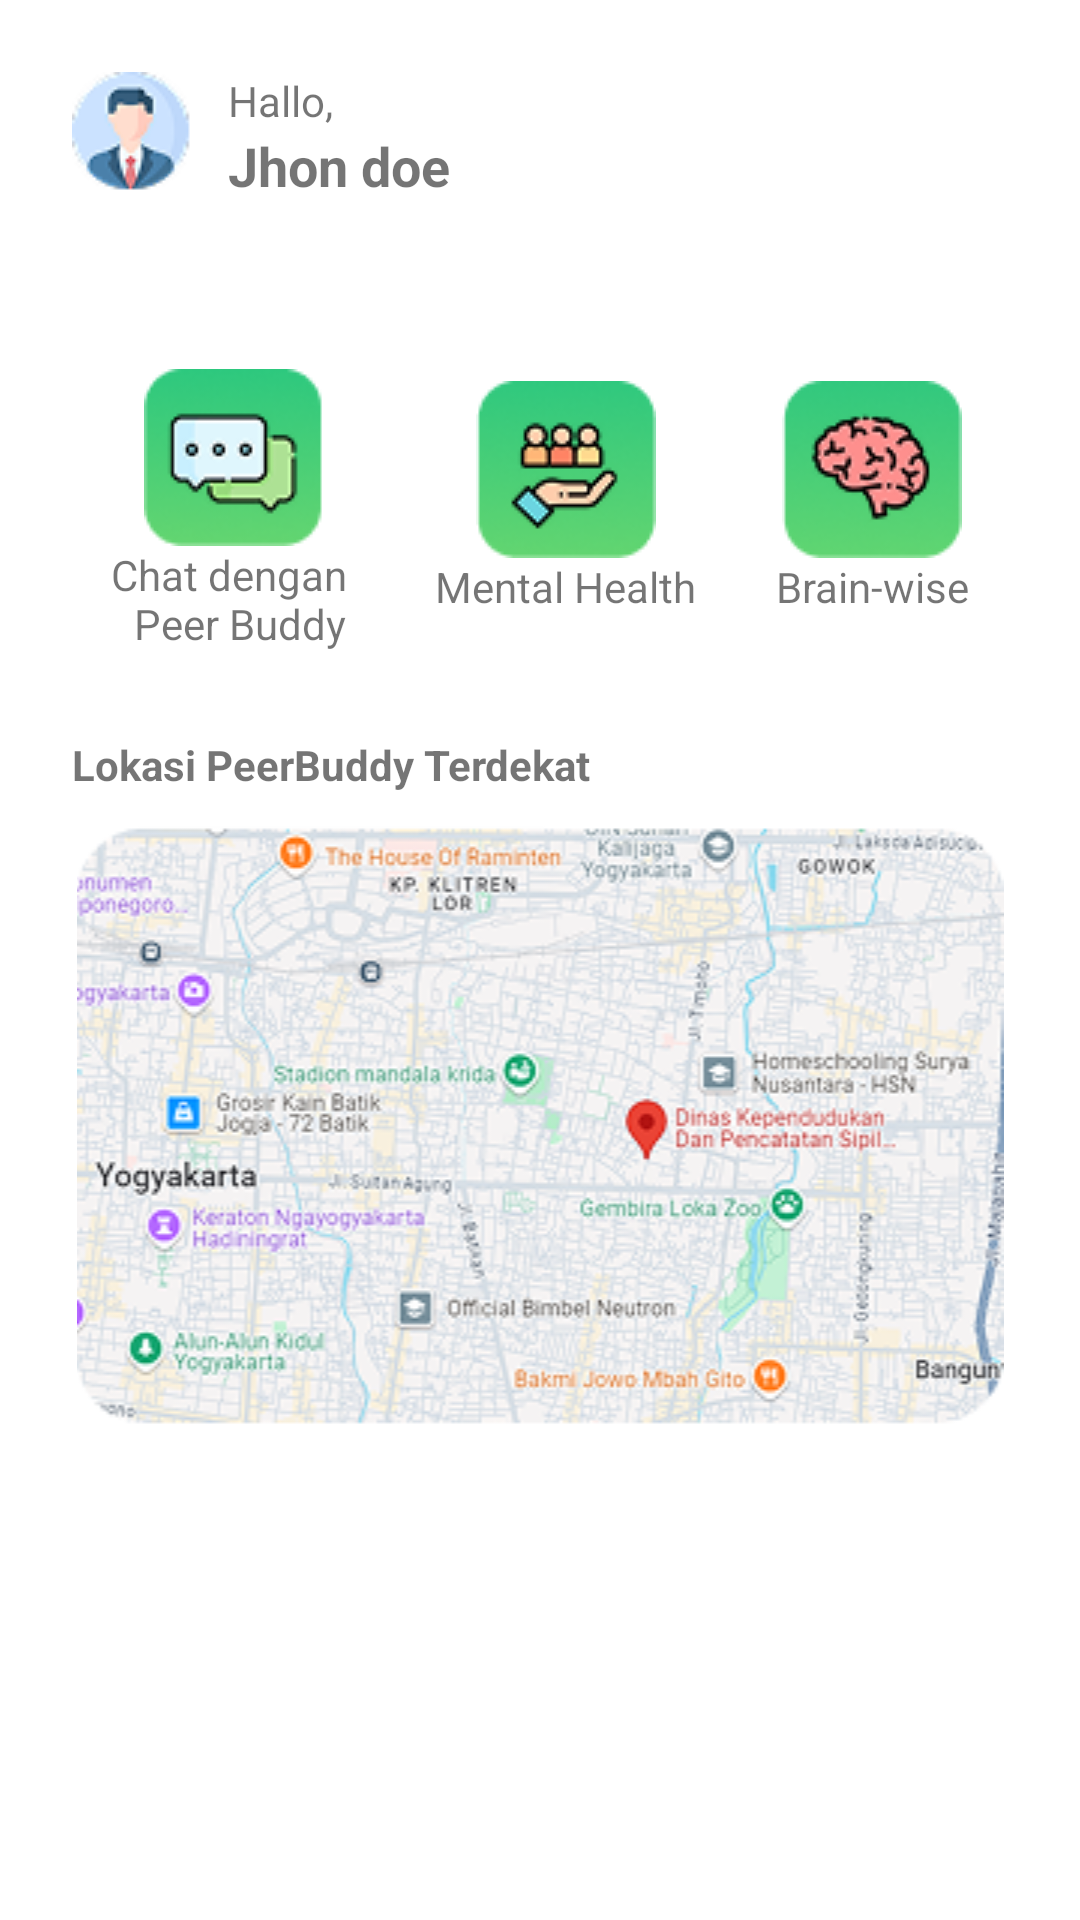

Icons on this 1080 × 1920 Android screen, each with the point to tap as [x,y]:
profile: [130,131]
